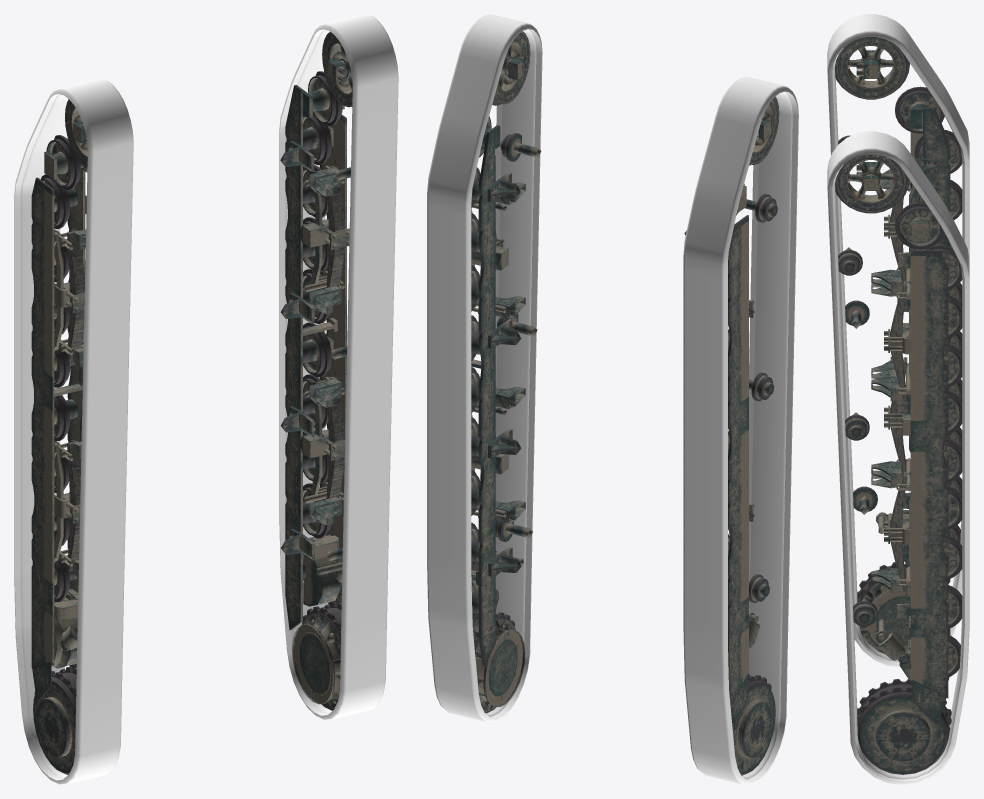
Rendered from Chassis.glb.
3 renders of one model, left to right at view 1: azimuth 30°, elevation 25°; view 2: azimuth 150°, elevation 25°; view 3: azimuth 270°, elevation 25°, orthographic. The views are drawn at different scales.
Parts seen in each view (by area): view 1: set_0_group_0, set_1_group_0, set_5_group_0, set_3_group_0; view 2: set_0_group_0, set_1_group_0, set_5_group_0, set_3_group_0; view 3: set_5_group_0, set_3_group_0, set_1_group_0, set_0_group_0.
Part boxes in pixels (x1,y1,x2,y2): set_0_group_0: (14,78,133,784); set_1_group_0: (279,14,398,720); set_5_group_0: (280,32,352,710); set_3_group_0: (31,99,87,774); set_0_group_0: (683,76,798,784); set_1_group_0: (427,14,542,722); set_5_group_0: (471,31,541,713); set_3_group_0: (684,96,779,775); set_5_group_0: (835,154,962,774); set_3_group_0: (835,37,962,653); set_1_group_0: (827,131,969,784); set_0_group_0: (827,14,969,667).
Size of the model in its own units: 2.5 by 5.41 by 1.09.
Materials: 6 (4 with a texture image).
